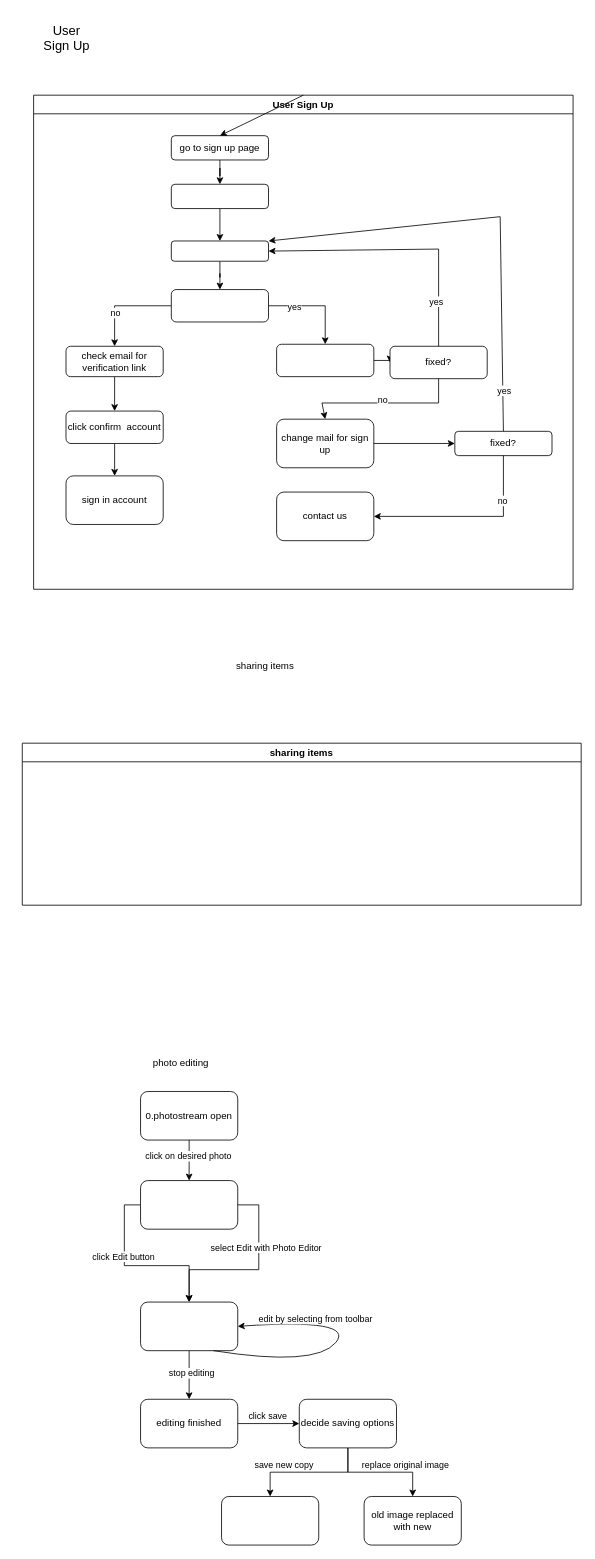
The diagram is 595 pixels wide and 1559 high, and some of its shapes have lost their labels. Here are the shapes that lost their labels. From the top down, the centre of each, then its label:
point (220, 196): enter information
point (220, 250): click sign up
point (220, 305): "oops something went wrong"
point (325, 360): check password requirements
point (189, 1204): photo selected
point (189, 1326): editing
point (270, 1520): new copy saved
